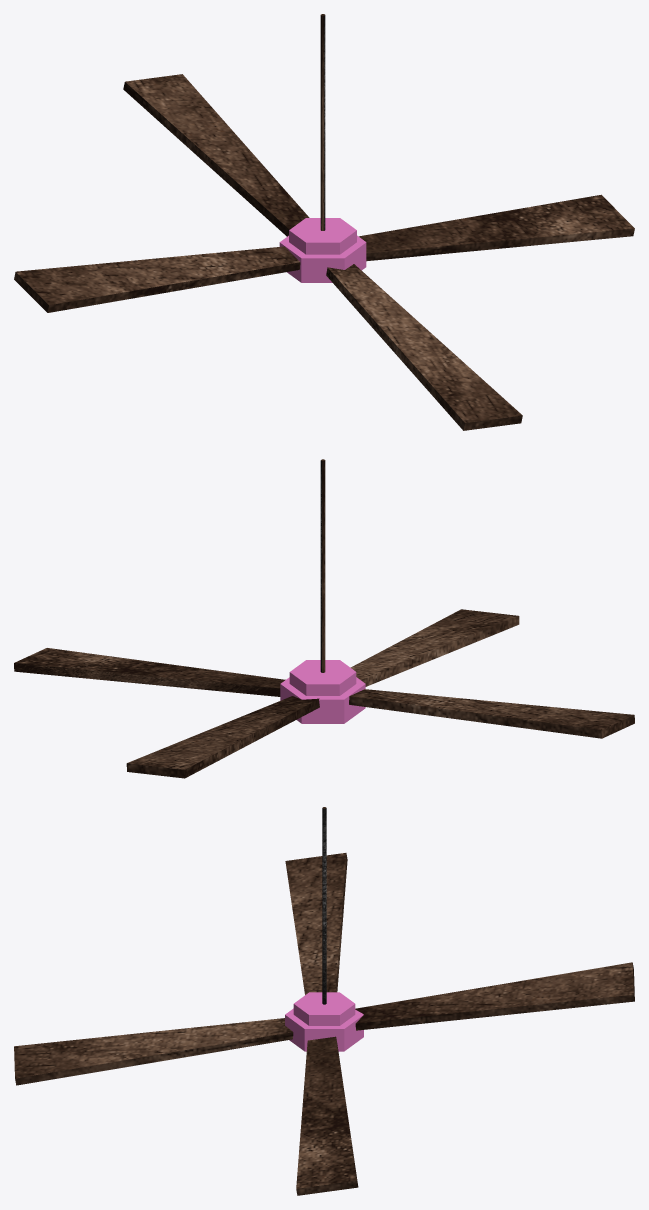
File: Ventilador.fbx
The picture shows the model from 3 angles, top to bottom: view 1: azimuth 30°, elevation 25°; view 2: azimuth 150°, elevation 25°; view 3: azimuth 270°, elevation 25°; orthographic projection. The views are drawn at different scales.
Parts seen in each view (by area): view 1: Ventilador; view 2: Ventilador; view 3: Ventilador.
Part boxes in pixels (bbox=[...]): Ventilador: bbox=[14, 14, 634, 430]; Ventilador: bbox=[14, 459, 634, 778]; Ventilador: bbox=[14, 807, 634, 1195].
Bounding box in the file's own units: 2017 × 948 × 2013.
